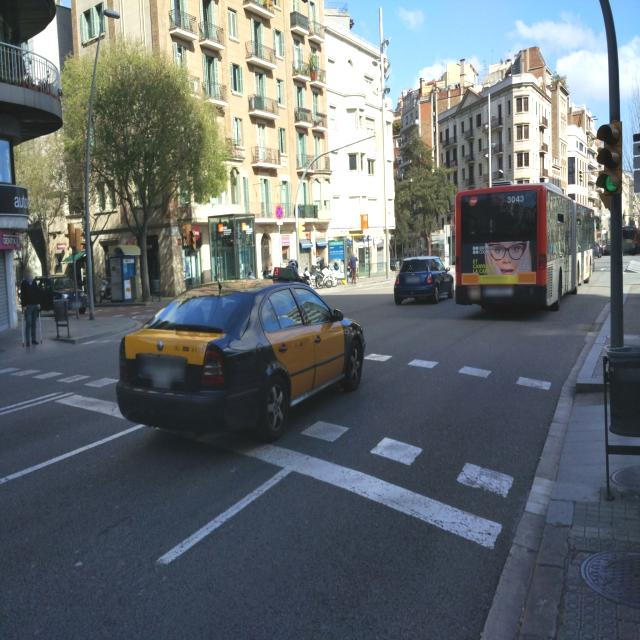car: (116, 277, 366, 443), (393, 255, 455, 306), (17, 275, 88, 314), (592, 241, 602, 258), (602, 240, 611, 256)
